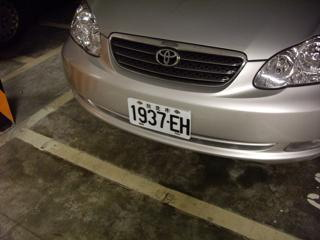plate: (124, 93, 194, 142)
